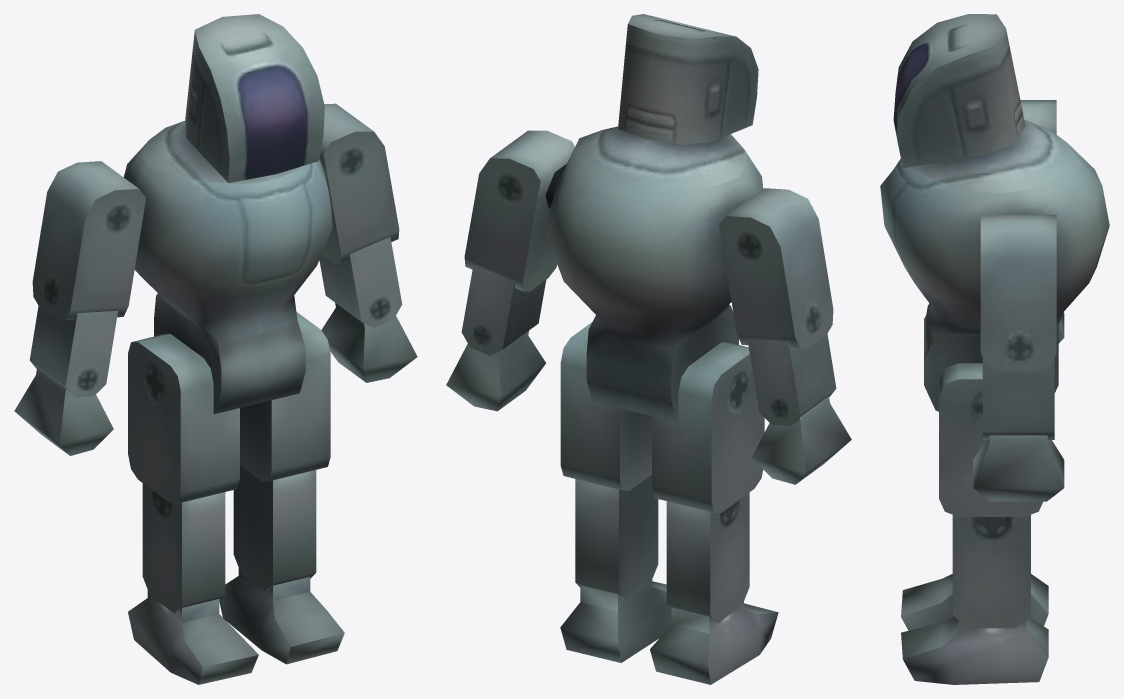
Rendered from Golem Robot.glb.
3 views of the same model, side by side, from view 1: azimuth 30°, elevation 25°; view 2: azimuth 150°, elevation 25°; view 3: azimuth 270°, elevation 25° (orthographic).
Visible parts, largest first — view 1: Robot; view 2: Robot; view 3: Robot.
Boxes of the visible parts, <box> form: Robot: <box>14,14,417,684</box>; Robot: <box>446,14,851,684</box>; Robot: <box>880,14,1109,684</box>.
Bounding box in the file's own units: 1.53 × 2.53 × 0.8504.
Materials: 1 (1 with a texture image).
